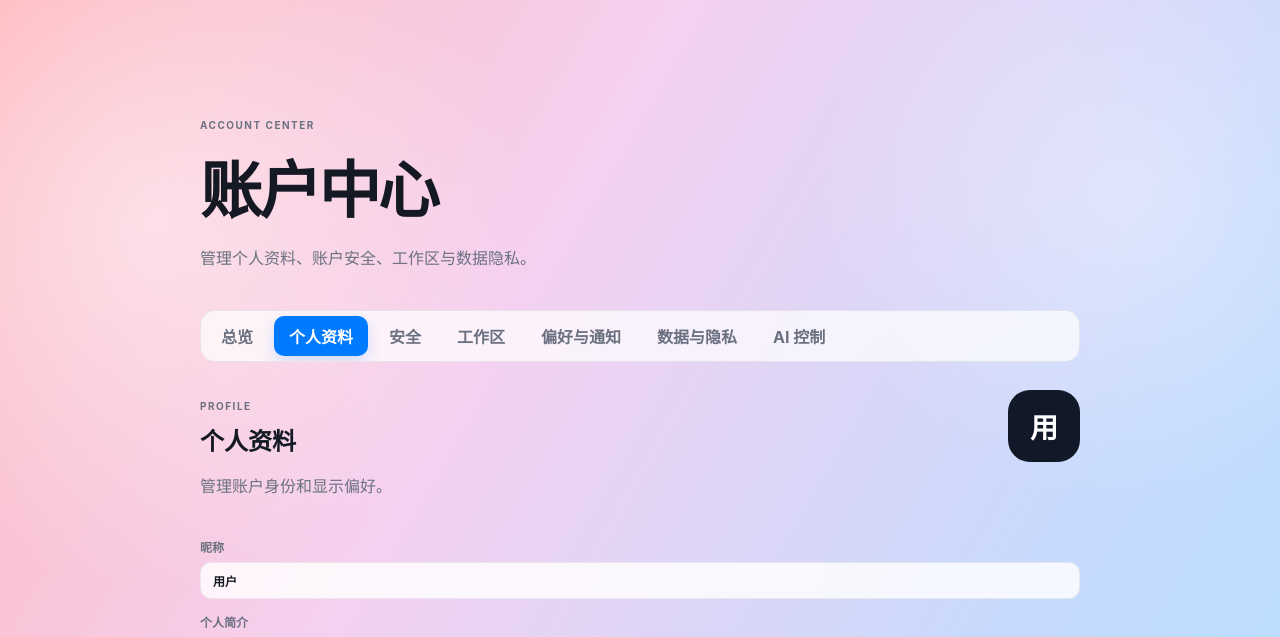
Test: AccountCenter › keeps newer profile edits after a late save success while adopting the returned baseline
Step 1. Replace the text in the field labelled "昵称" with "第一次编辑" → (640,580), box [200, 562, 1080, 599]
(page scrolled)
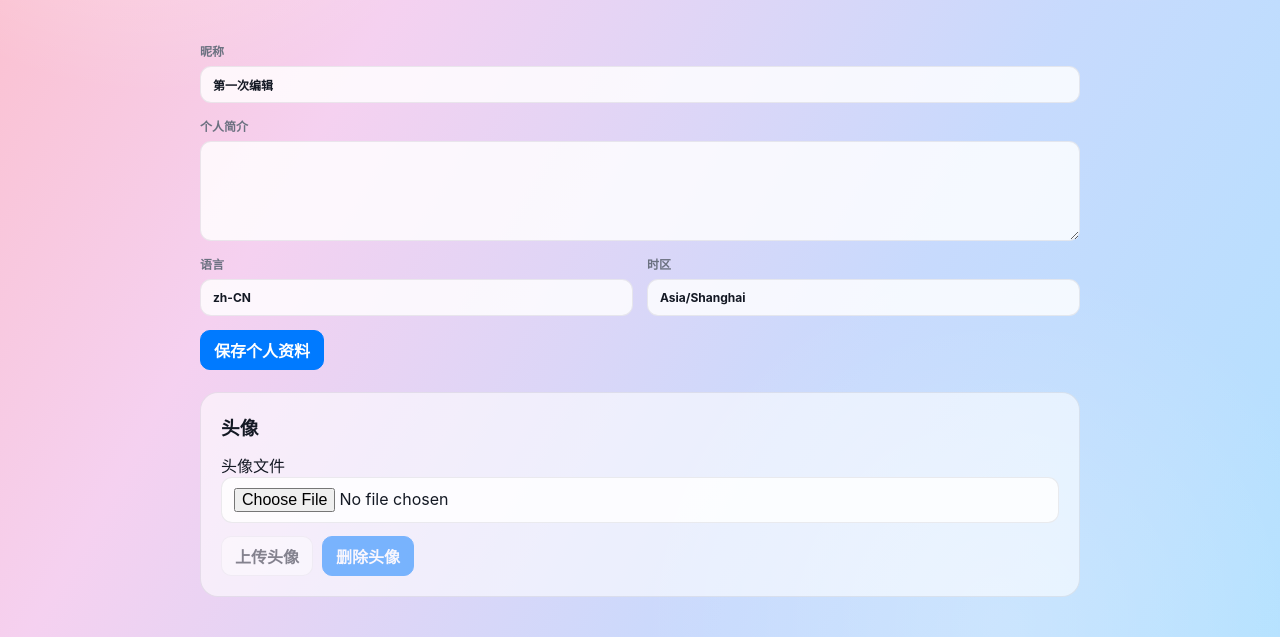
Step 2. Click the button "保存个人资料" → (262,350), box [200, 330, 324, 370]
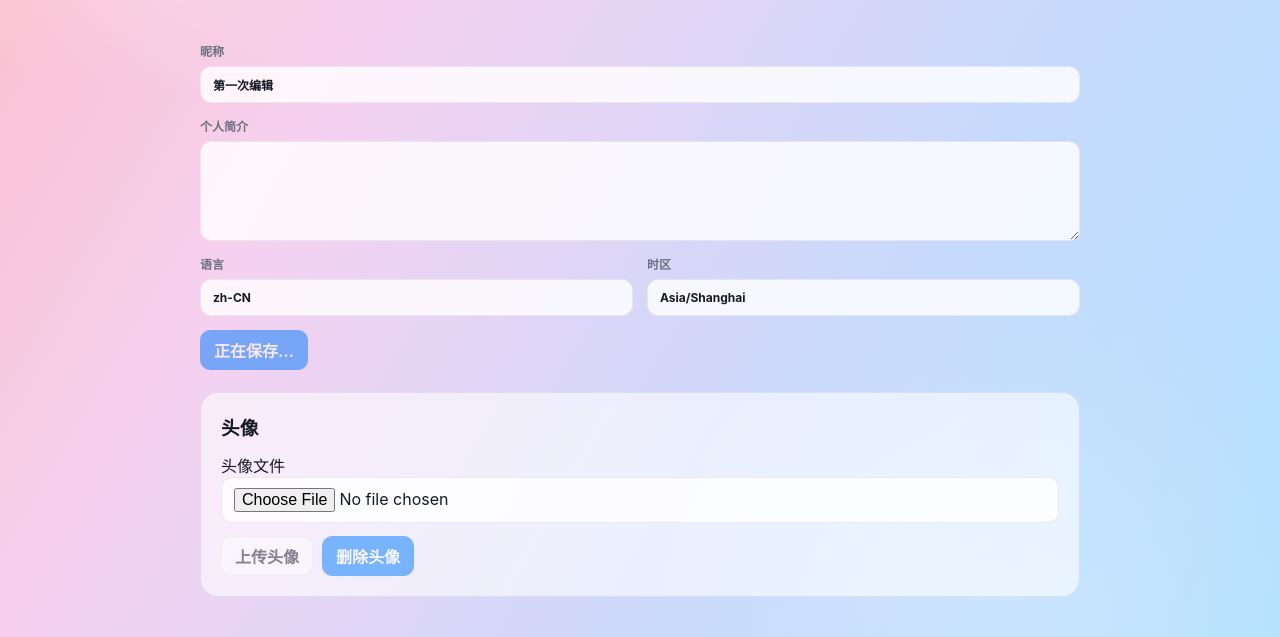
Step 3. Replace the text in the field labelled "昵称" with "提交后的更新" → (640,84), box [200, 66, 1080, 103]
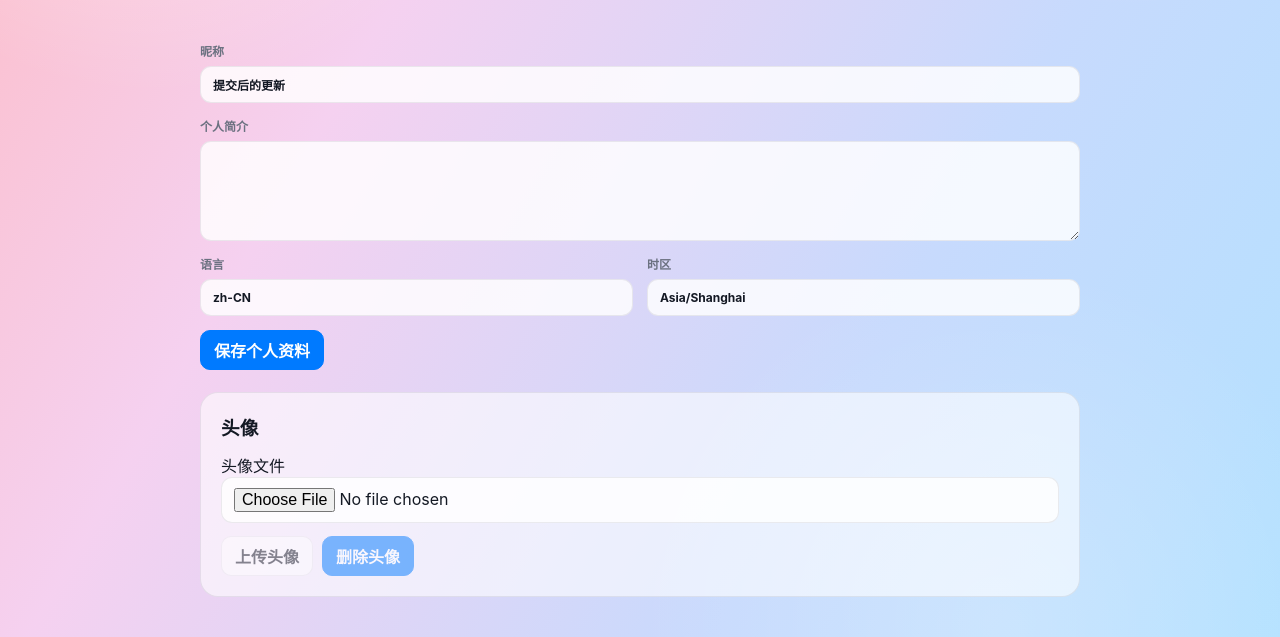
Step 4. Click the button "保存个人资料" → (262,350), box [200, 330, 324, 370]
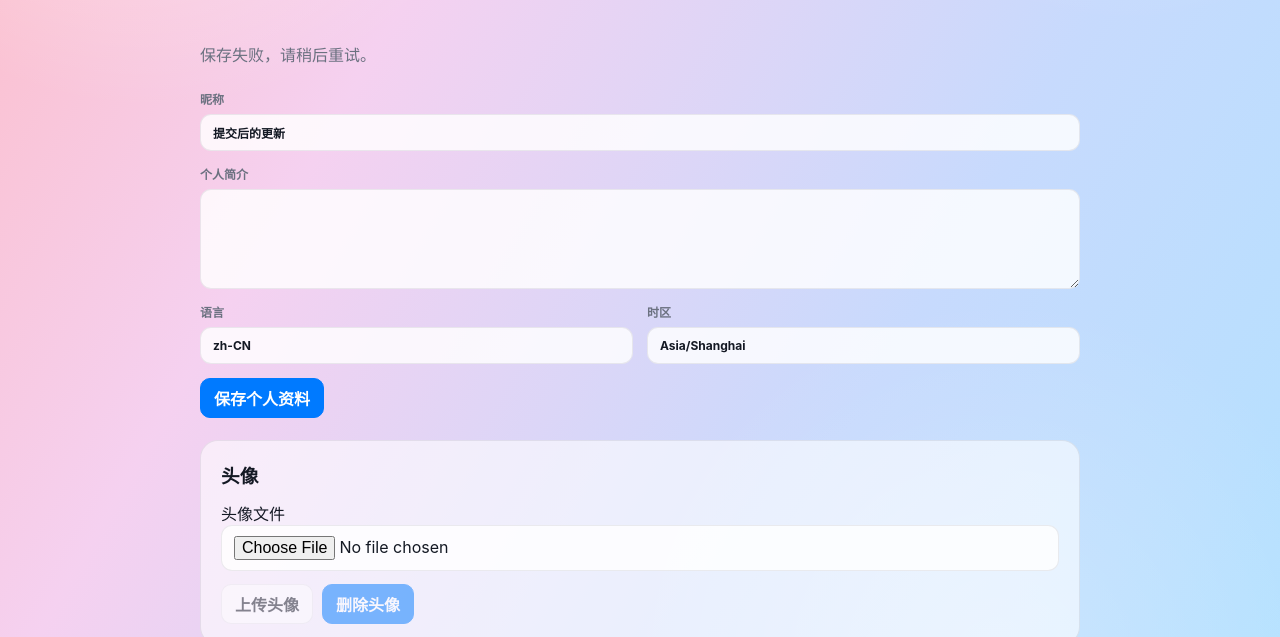
Result: the message shows "保存失败" at [200, 45, 376, 65]
